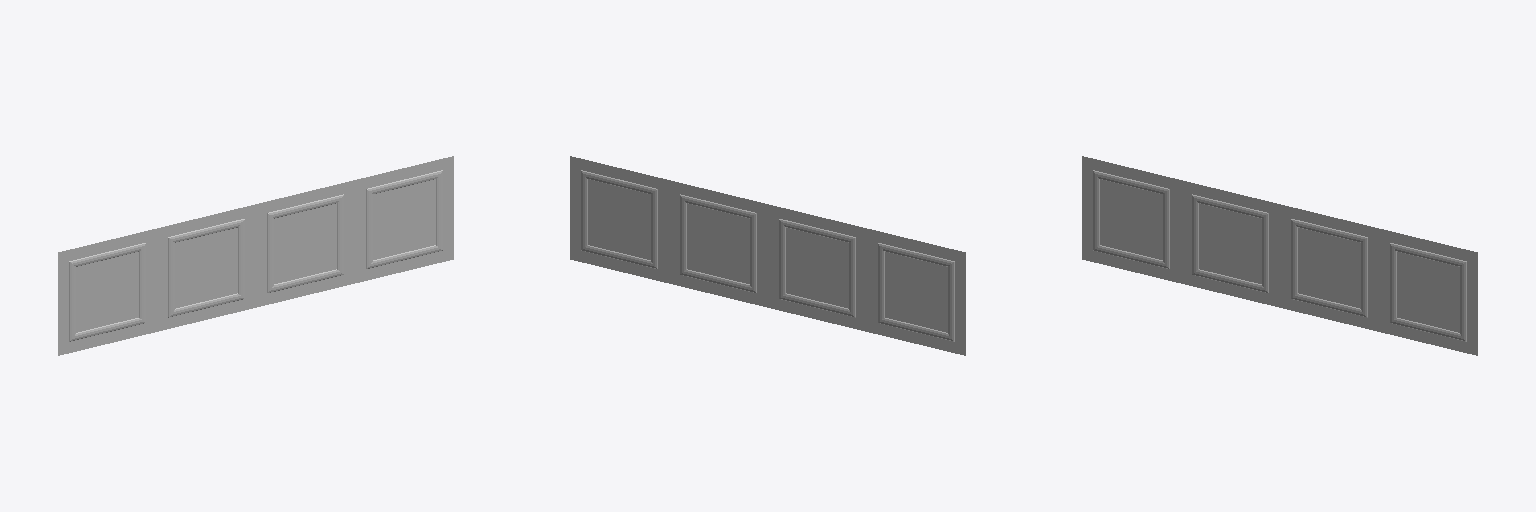
The model's file is ToolUI.obj.
3 views of the same model, side by side, from view 1: azimuth 30°, elevation 25°; view 2: azimuth 150°, elevation 25°; view 3: azimuth 330°, elevation 25° (orthographic).
Visible parts, largest first — view 1: pPlane1, pTorus1, pTorus3, pTorus2, pTorus4; view 2: pPlane1, pTorus1, pTorus3, pTorus2, pTorus4; view 3: pPlane1, pTorus1, pTorus3, pTorus2, pTorus4.
Part boxes in pixels (x1,y1,x2,y2): pPlane1: (58,156,453,355); pTorus1: (168,219,244,317); pTorus3: (267,194,343,292); pTorus2: (69,243,145,341); pTorus4: (366,170,442,268); pPlane1: (570,156,965,355); pTorus1: (779,219,855,317); pTorus3: (680,194,756,292); pTorus2: (878,243,954,341); pTorus4: (581,170,657,268); pPlane1: (1082,156,1477,355); pTorus1: (1192,194,1268,292); pTorus3: (1291,219,1367,317); pTorus2: (1093,170,1169,268); pTorus4: (1390,243,1466,341).
Bounding box in the file's own units: 4 × 1 × 0.019.